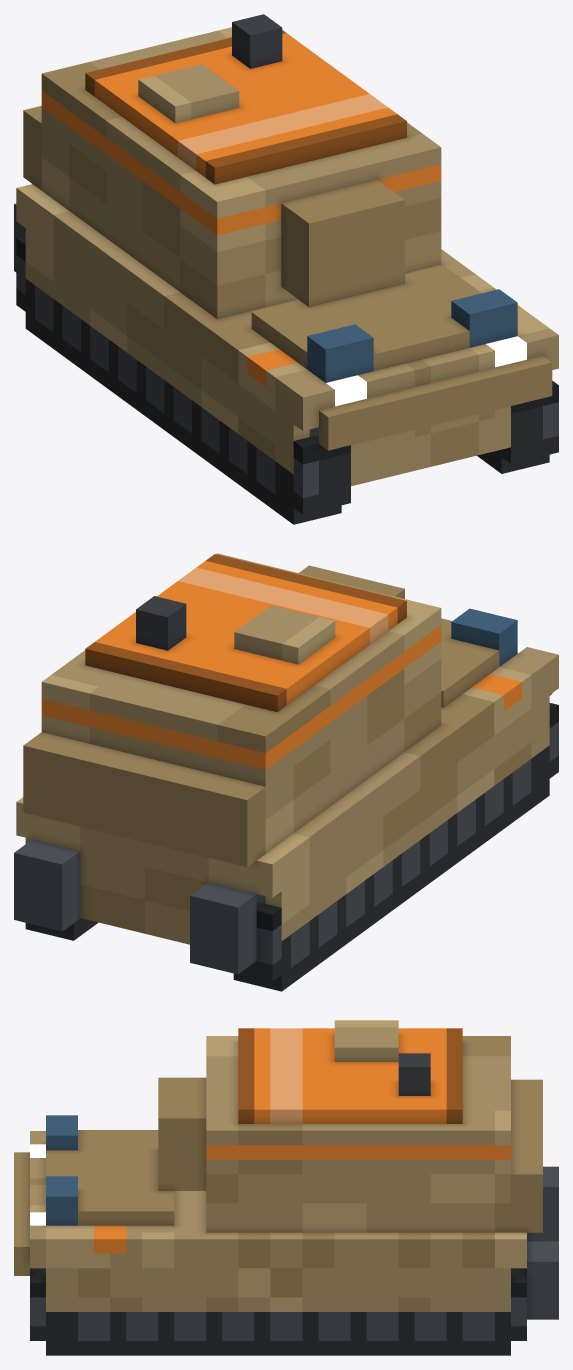
The model's file is cm_artillery_h_5.glb.
3 renders of one model, top to bottom at view 1: azimuth 30°, elevation 25°; view 2: azimuth 150°, elevation 25°; view 3: azimuth 270°, elevation 25°, orthographic. The views are drawn at different scales.
Visible parts, largest first — view 1: cm_artillery_h_5_body; view 2: cm_artillery_h_5_body; view 3: cm_artillery_h_5_body.
Boxes of the visible parts, bbox=[...] form: cm_artillery_h_5_body: bbox=[14, 14, 558, 524]; cm_artillery_h_5_body: bbox=[14, 553, 558, 991]; cm_artillery_h_5_body: bbox=[14, 1020, 558, 1355].
Bounding box in the file's own units: 1 × 1.12 × 2.12.
Materials: 1 (1 with a texture image).
